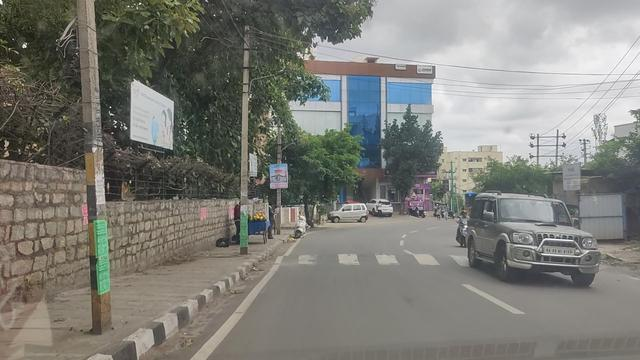LMV: (469, 189, 604, 286)
SpeedBump: (274, 249, 463, 267)
